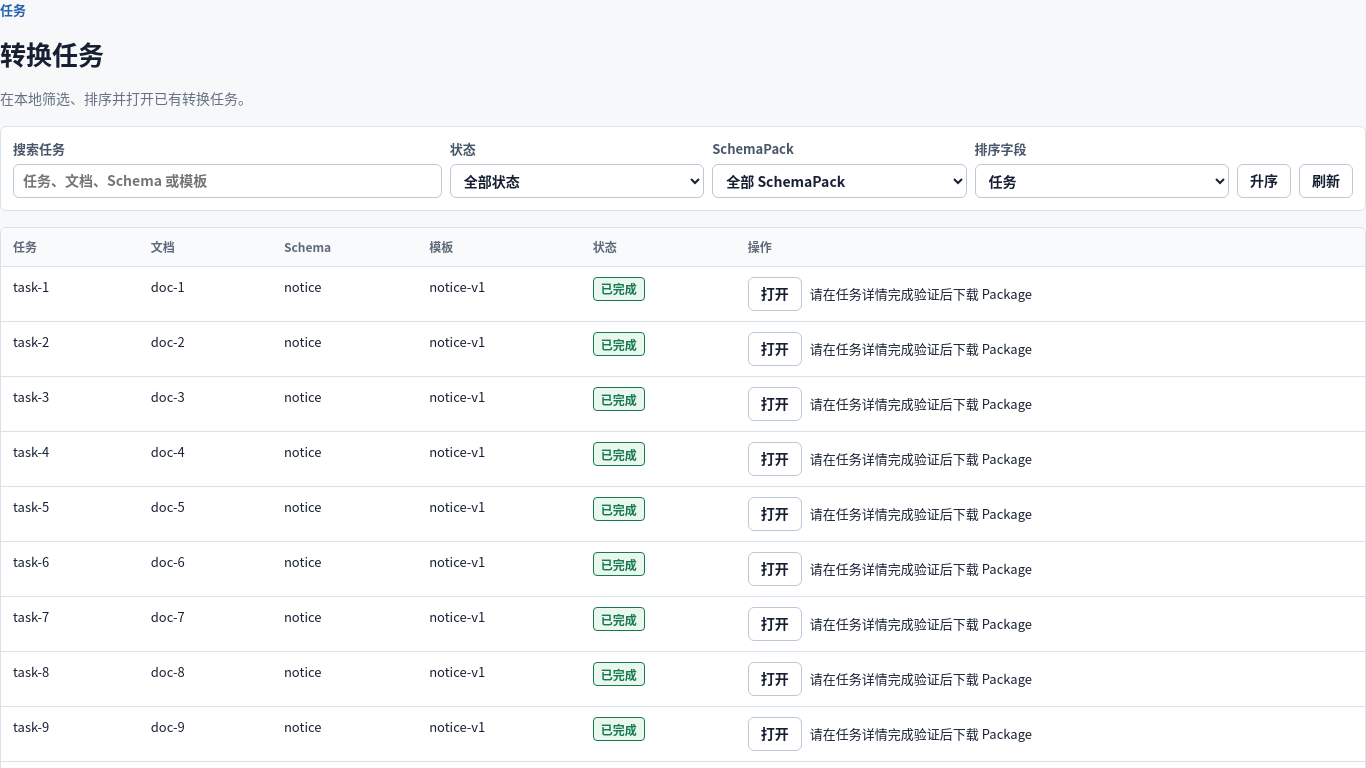
it: TasksPage › loads every API page before applying local filters
The width and height of the screenshot is (1366, 768).
expect the text "task-1" is shown: met, box [1,266,139,322]
In the field: (227, 181) [13,164,442,198], type "task-105"
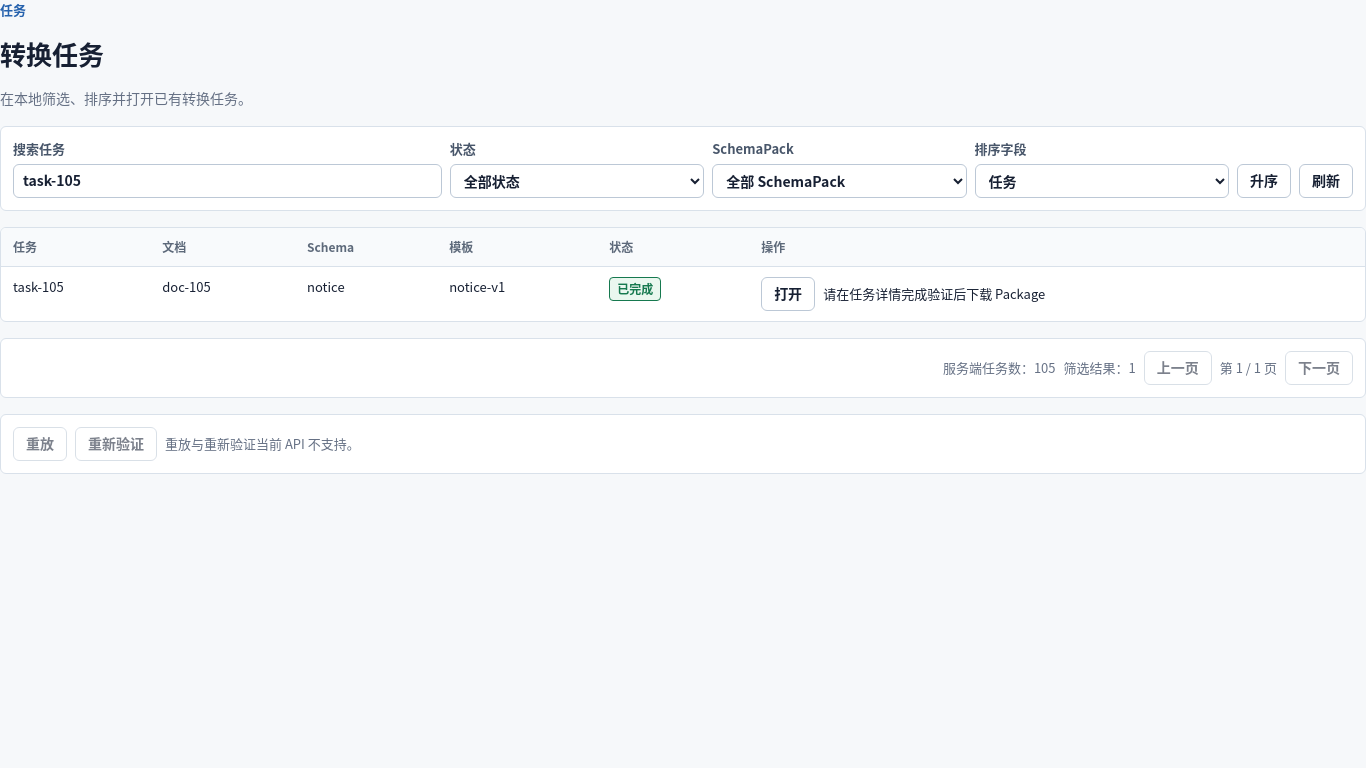
expect the text "task-105" is shown: met, box [1,266,150,321]
